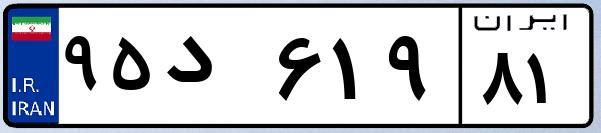1: (330, 28, 385, 110), (525, 38, 570, 115)
5: (110, 28, 158, 98)
6: (270, 28, 330, 110)
8: (475, 38, 525, 113)
9: (385, 28, 445, 110), (57, 26, 110, 100)
د: (158, 20, 270, 120)
